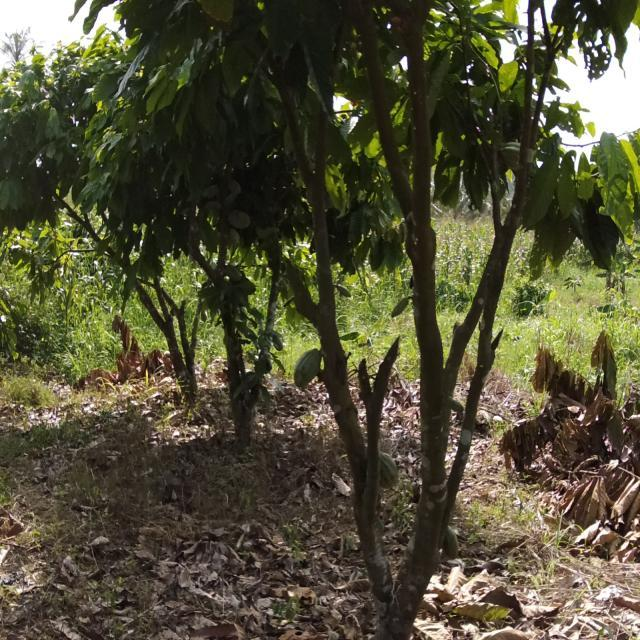Immature: (440, 393, 472, 419), (391, 295, 414, 321), (335, 281, 355, 300)
Mature_Unripe: (368, 450, 403, 492), (294, 347, 325, 391), (499, 142, 535, 170), (442, 526, 464, 561), (229, 210, 249, 245)
